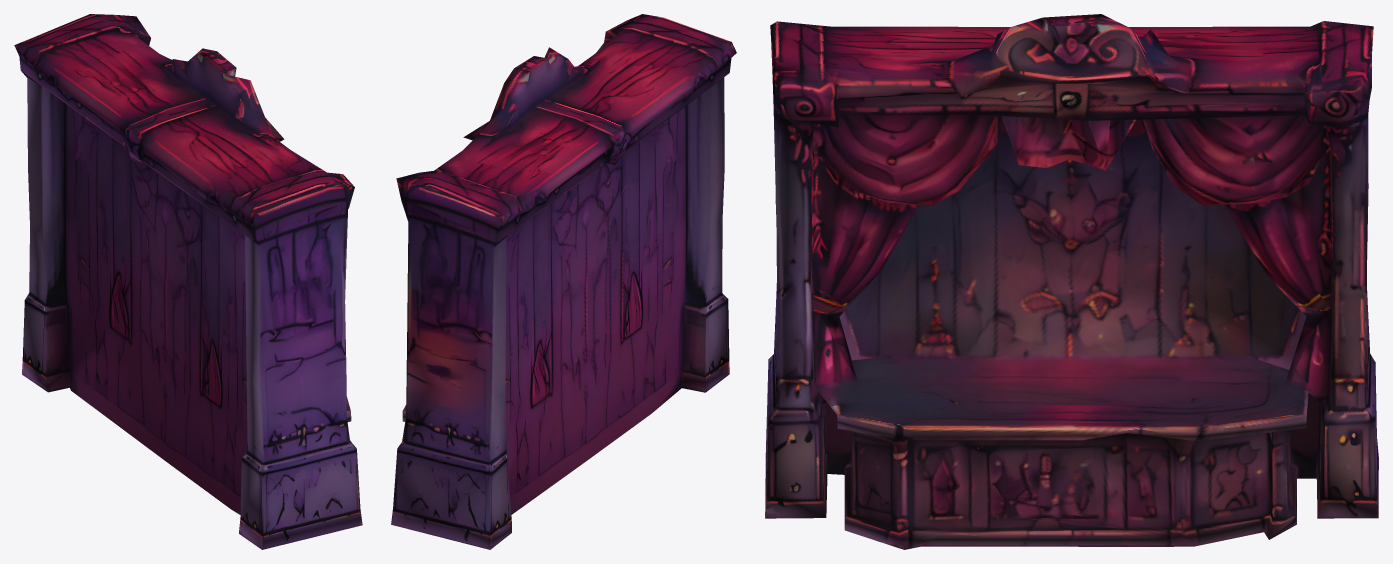
File: ornate+theater+stage+3d+model.obj
3 renders of one model, left to right at view 1: azimuth 30°, elevation 25°; view 2: azimuth 150°, elevation 25°; view 3: azimuth 270°, elevation 25°, orthographic. The views are drawn at different scales.
Parts seen in each view (by area): view 1: tripo_node_b3f3eea0-4fd7-42a0-b203-34f3c84971ad; view 2: tripo_node_b3f3eea0-4fd7-42a0-b203-34f3c84971ad; view 3: tripo_node_b3f3eea0-4fd7-42a0-b203-34f3c84971ad.
Boxes of the visible parts, x1,y1,x2,y2 form: tripo_node_b3f3eea0-4fd7-42a0-b203-34f3c84971ad: (14,14,362,549); tripo_node_b3f3eea0-4fd7-42a0-b203-34f3c84971ad: (391,14,736,549); tripo_node_b3f3eea0-4fd7-42a0-b203-34f3c84971ad: (765,14,1378,549).
Bounding box in the file's own units: 0.3673 × 0.8932 × 0.9976.
Materials: 1 (1 with a texture image).
